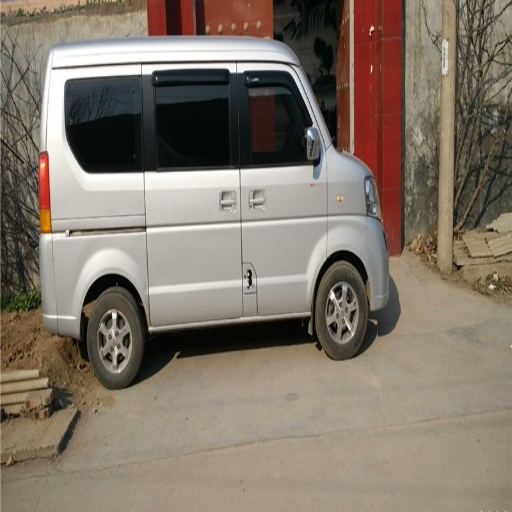trunk: (41, 191, 192, 331)
